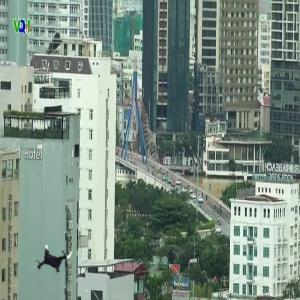drone: (32, 237, 76, 281)
